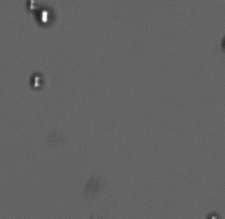Living Cell: (28, 71, 47, 90), (35, 7, 55, 25)
